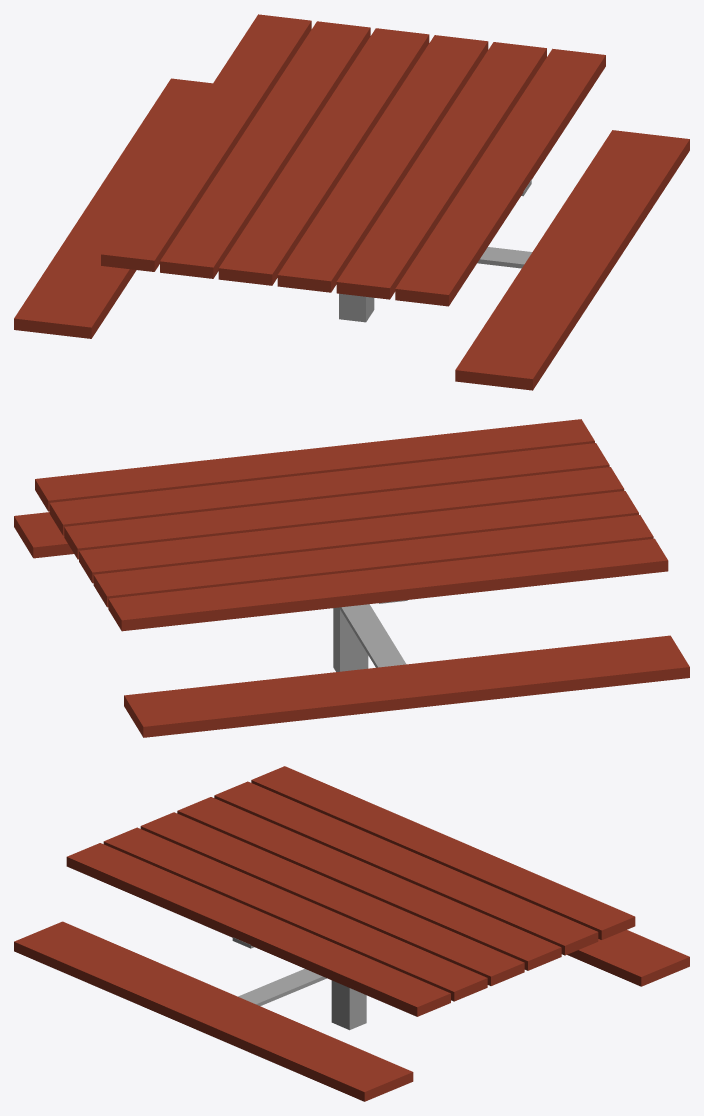
File: Tent-table.fbx
3 renders of one model, top to bottom at view 1: azimuth 30°, elevation 25°; view 2: azimuth 150°, elevation 25°; view 3: azimuth 270°, elevation 25°, orthographic. The views are drawn at different scales.
Visible parts, largest first — view 1: Cube.068; view 2: Cube.068; view 3: Cube.068.
Part boxes in pixels (bbox=[...]): Cube.068: bbox=[14, 14, 689, 390]; Cube.068: bbox=[14, 419, 689, 737]; Cube.068: bbox=[14, 766, 689, 1101].
Size of the model in its own units: 402 by 402 by 88.72.
